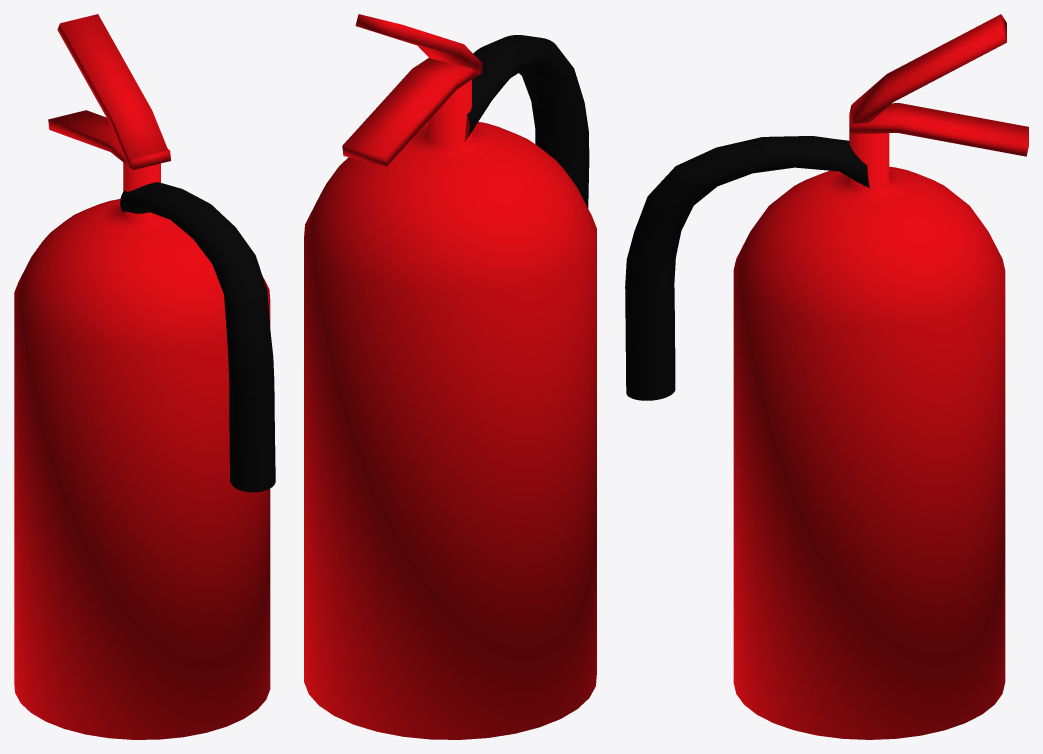
File: matafuegos.fbx
3 views of the same model, side by side, from view 1: azimuth 30°, elevation 25°; view 2: azimuth 150°, elevation 25°; view 3: azimuth 270°, elevation 25° (orthographic). The views are drawn at different scales.
Parts seen in each view (by area): view 1: Matafuegos; view 2: Matafuegos; view 3: Matafuegos.
Boxes of the visible parts, x1,y1,x2,y2 form: Matafuegos: (14, 14, 275, 739); Matafuegos: (304, 14, 596, 739); Matafuegos: (625, 14, 1028, 739).
Bounding box in the file's own units: 200 × 535 × 297.
